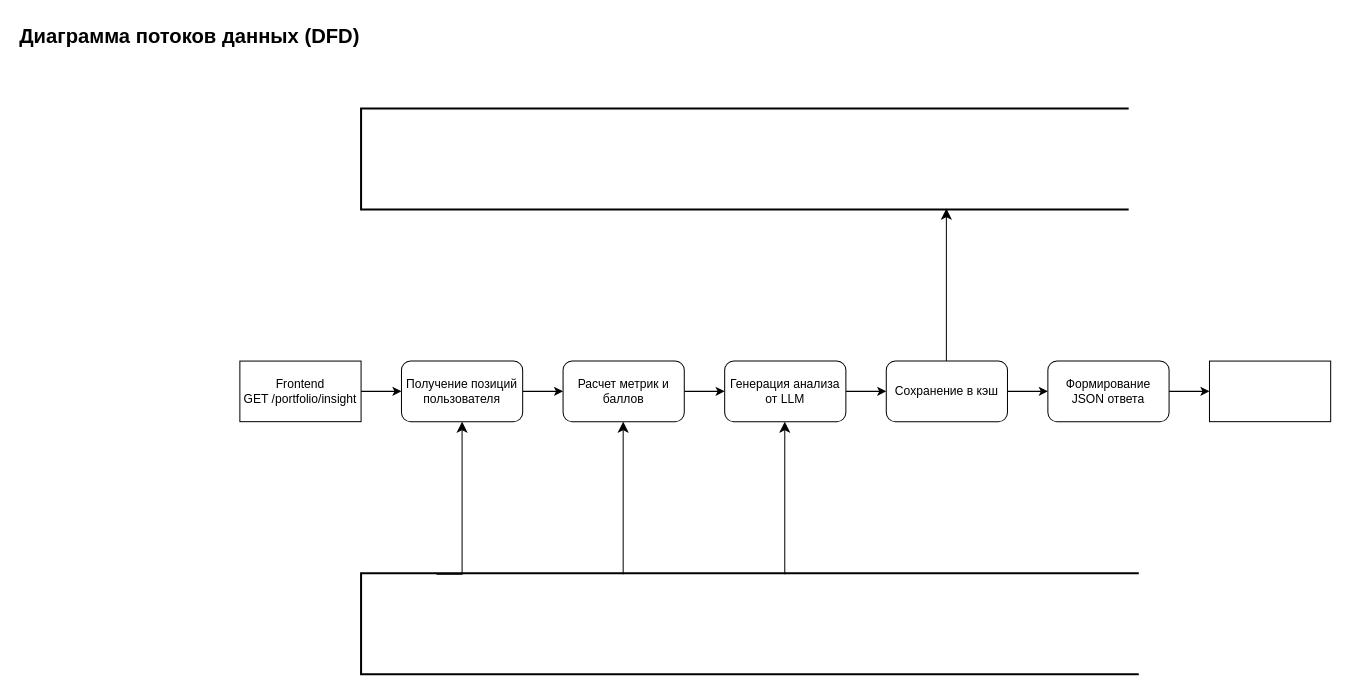
Image size: 1348x692. Some labels were removed from this diagram. Here are the shapes that lost their labels. From the top down, the box of each, then its label:
(360, 107, 1129, 210): Кэш оценок портфеля (portfolio_insight_cache)
(1208, 360, 1331, 422): Получатель PortfolioInsight (виджет)
(360, 572, 1139, 675): Источник данных портфеля (user_assets, assets, portfolio_snapshots)
